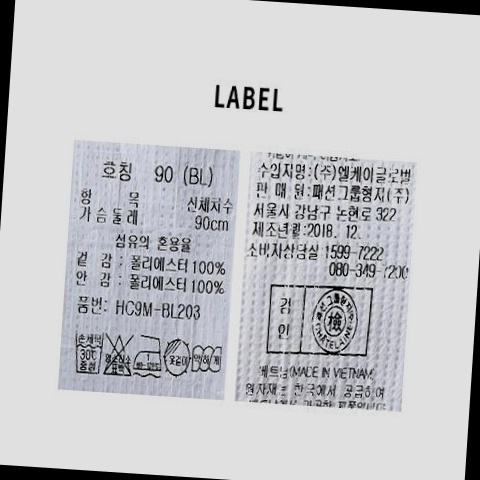DN_bleach: (103, 332, 137, 378)
hand_wash: (74, 328, 107, 376)
iron_low: (132, 334, 164, 377)
line_dry_in_shade: (162, 335, 193, 381)
wring: (191, 340, 224, 378)
